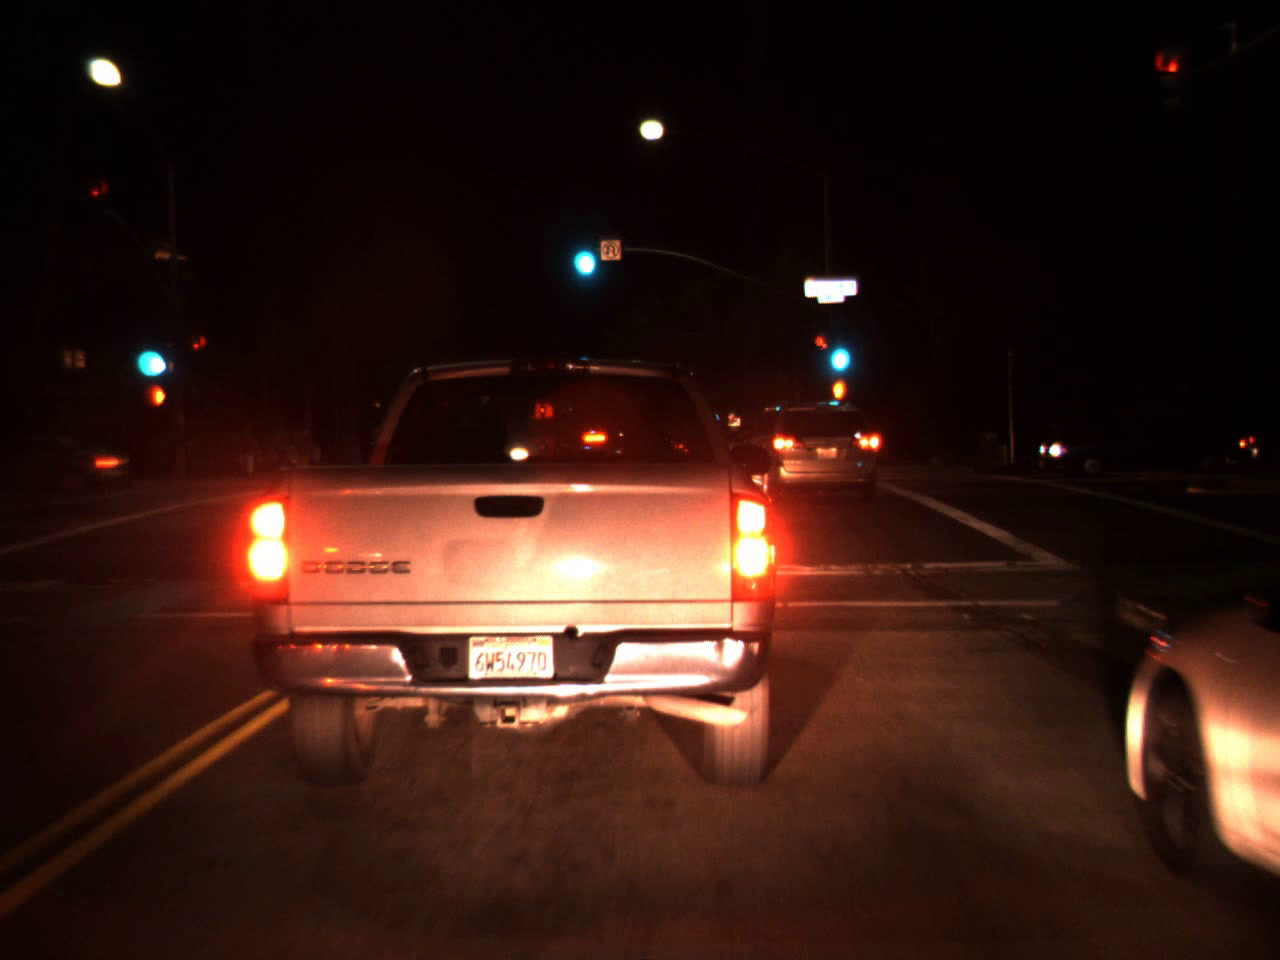go: (129, 317, 168, 386), (565, 219, 601, 285), (823, 317, 853, 380)
